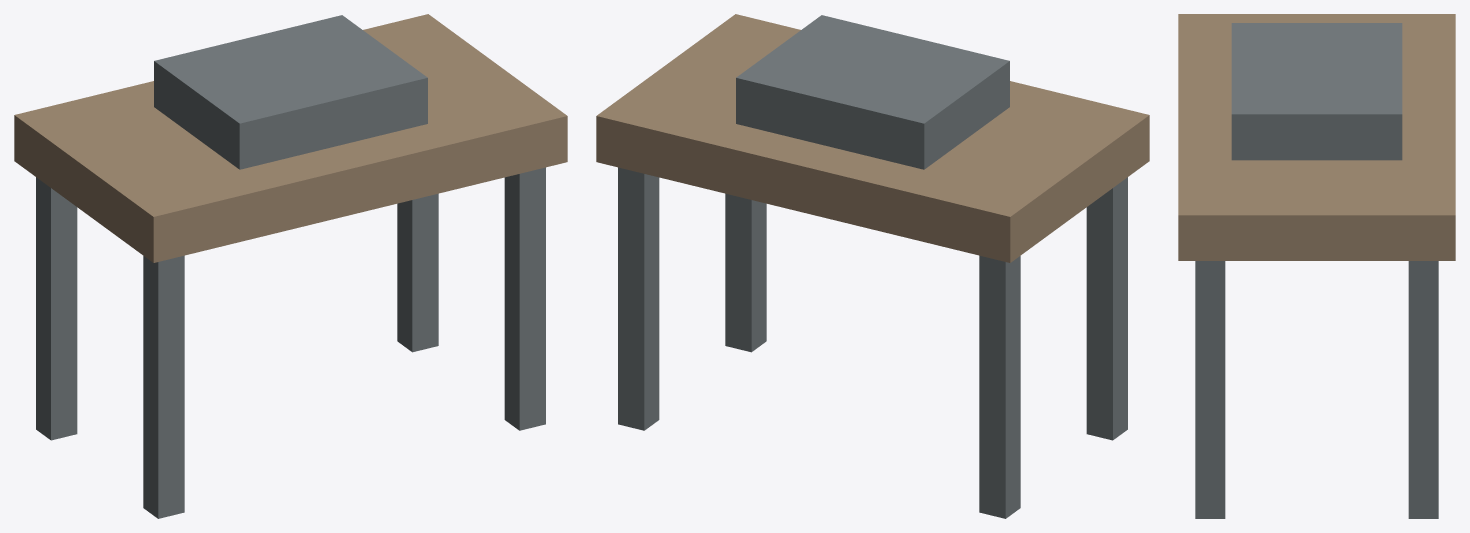
The model's file is iz2_food_solar_oven.glb.
3 views of the same model, side by side, from view 1: azimuth 30°, elevation 25°; view 2: azimuth 150°, elevation 25°; view 3: azimuth 270°, elevation 25° (orthographic).
Parts seen in each view (by area): view 1: body; view 2: body; view 3: body.
Part boxes in pixels (x1,y1,x2,y2): body: (14,14,567,518); body: (596,14,1149,518); body: (1178,14,1455,518).
Size of the model in its own units: 1.1 by 0.9068 by 0.6403.
